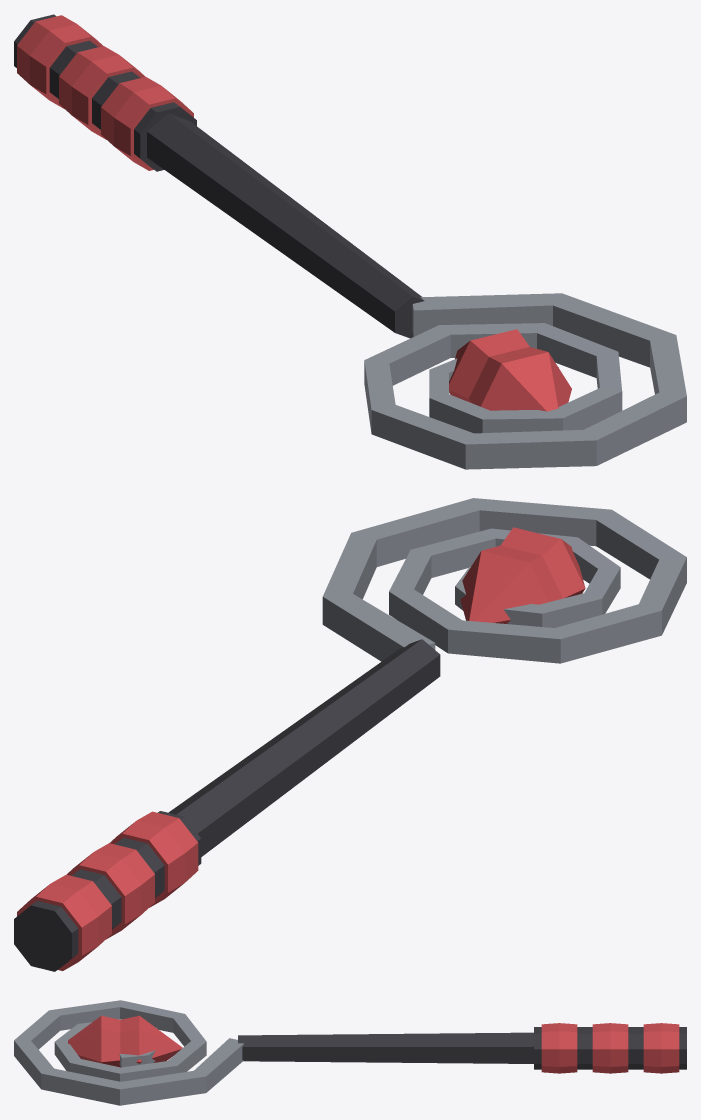
The model's file is cinderspiral.glb.
3 renders of one model, top to bottom at view 1: azimuth 30°, elevation 25°; view 2: azimuth 150°, elevation 25°; view 3: azimuth 270°, elevation 25°, orthographic. The views are drawn at different scales.
Parts seen in each view (by area): view 1: cinderspiral; view 2: cinderspiral; view 3: cinderspiral.
Boxes of the visible parts, x1,y1,x2,y2 form: cinderspiral: (14,14,686,469); cinderspiral: (14,498,686,971); cinderspiral: (14,1000,686,1105).
Size of the model in its own units: 0.2086 by 0.0558 by 0.6593.
